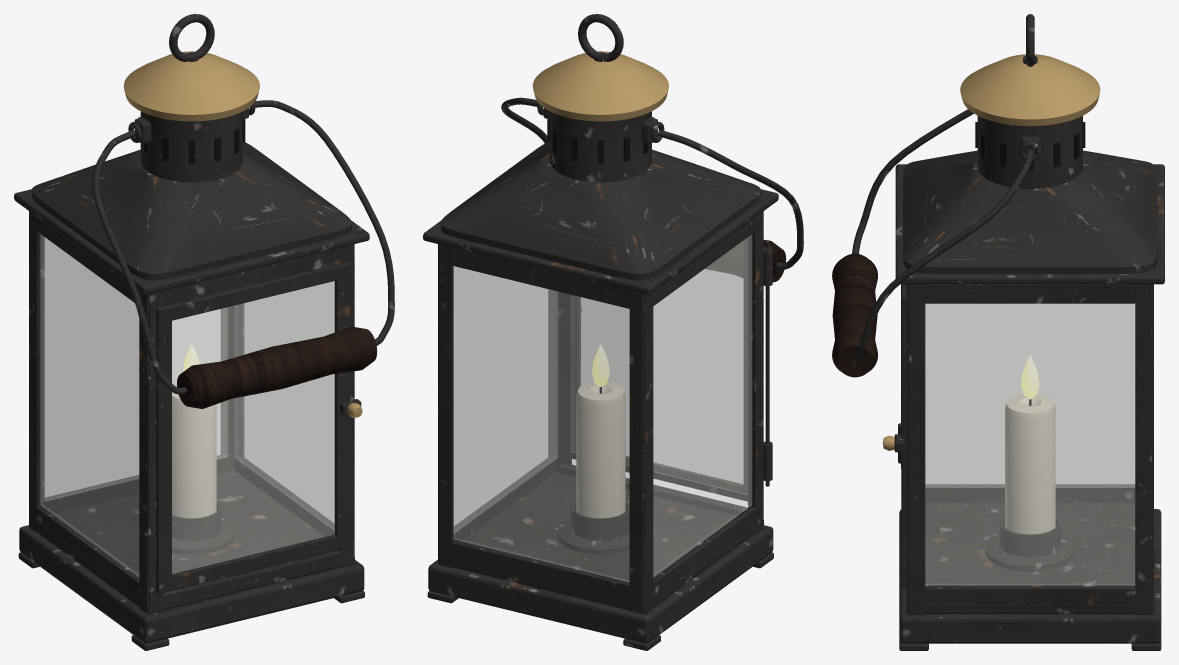
The model's file is lantern.glb.
3 renders of one model, left to right at view 1: azimuth 30°, elevation 25°; view 2: azimuth 150°, elevation 25°; view 3: azimuth 270°, elevation 25°, orthographic. The views are drawn at different scales.
Visible parts, largest first — view 1: Lantern_Body, Lantern_Door, Lantern_Glass, Lantern_Grip, Lantern_Candle; view 2: Lantern_Body, Lantern_Glass, Lantern_Door, Lantern_Candle, Lantern_Grip; view 3: Lantern_Body, Lantern_Glass, Lantern_Candle, Lantern_Grip, Lantern_Door, Lantern_Flame.
Boxes of the visible parts, <box> form: Lantern_Body: <box>14,14,394,650</box>; Lantern_Door: <box>144,261,362,593</box>; Lantern_Glass: <box>40,234,334,576</box>; Lantern_Grip: <box>177,326,377,408</box>; Lantern_Candle: <box>172,383,234,554</box>; Lantern_Body: <box>423,14,803,650</box>; Lantern_Glass: <box>453,234,751,581</box>; Lantern_Door: <box>571,237,772,501</box>; Lantern_Candle: <box>558,381,629,554</box>; Lantern_Grip: <box>705,240,786,282</box>; Lantern_Body: <box>851,14,1164,650</box>; Lantern_Glass: <box>925,303,1135,585</box>; Lantern_Candle: <box>986,394,1074,571</box>; Lantern_Grip: <box>832,253,877,377</box>; Lantern_Door: <box>882,284,906,588</box>; Lantern_Flame: <box>1021,355,1039,399</box>.
Size of the model in its own units: 0.1618 by 0.3469 by 0.1805.
7 materials, 2 textured.
